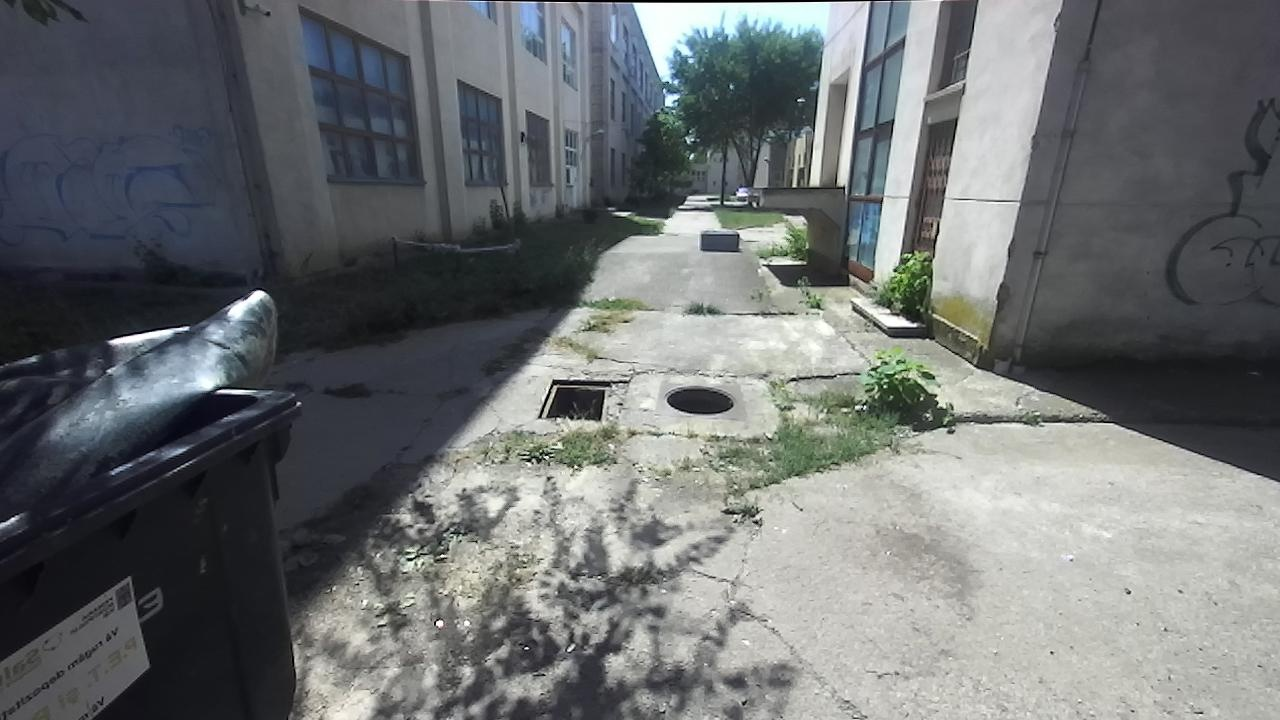drain: (529, 376, 614, 423), (656, 381, 737, 415)
